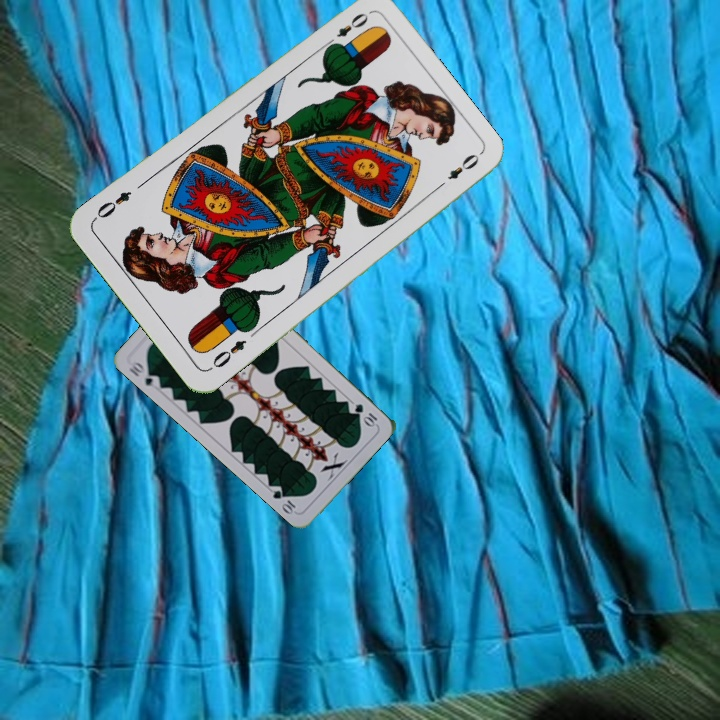EO: (321, 8, 372, 50), (208, 335, 249, 371)
G10: (125, 357, 163, 389), (350, 399, 380, 429)
